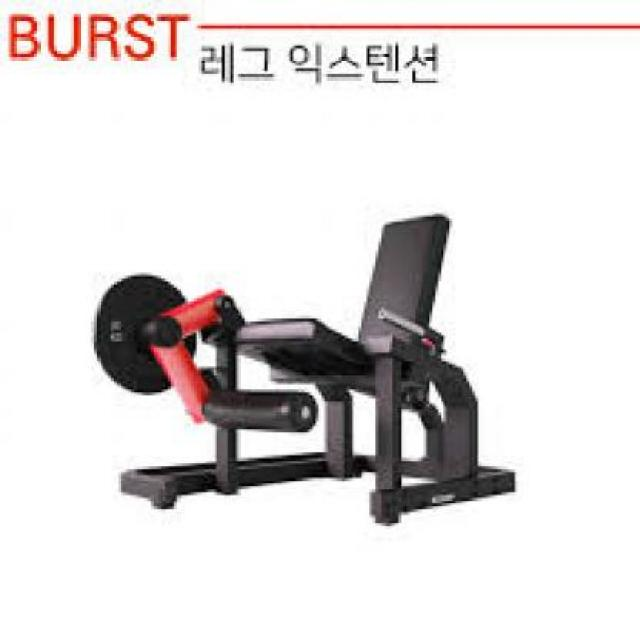leg extension: (72, 189, 543, 551)
